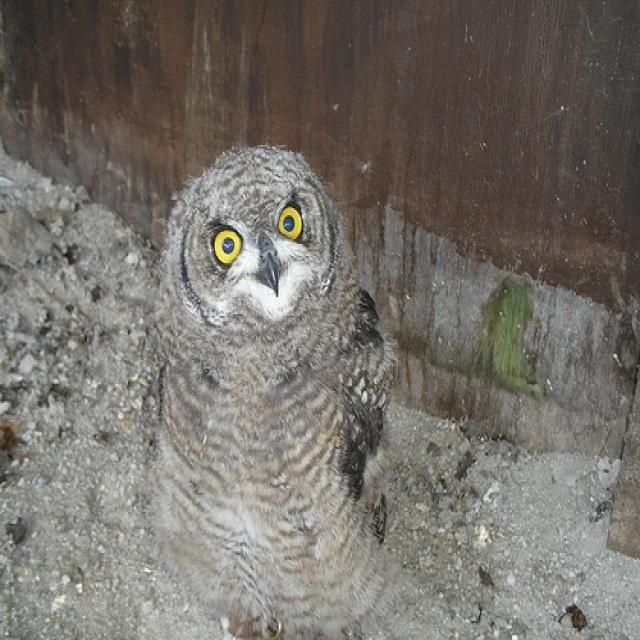bird: (145, 142, 403, 638)
